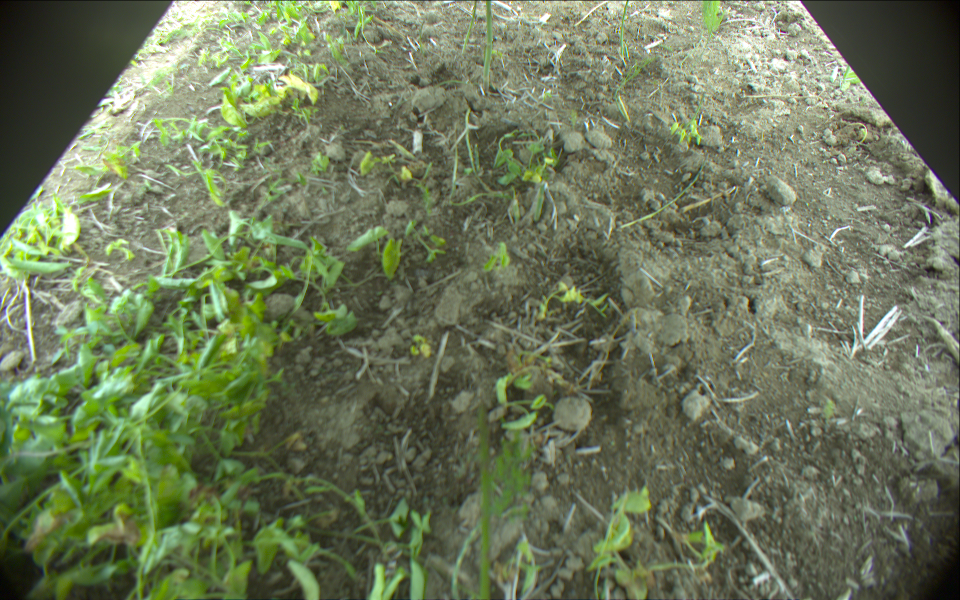aspa: (477, 399, 493, 600), (483, 1, 494, 90), (460, 1, 478, 52), (619, 1, 631, 59)
